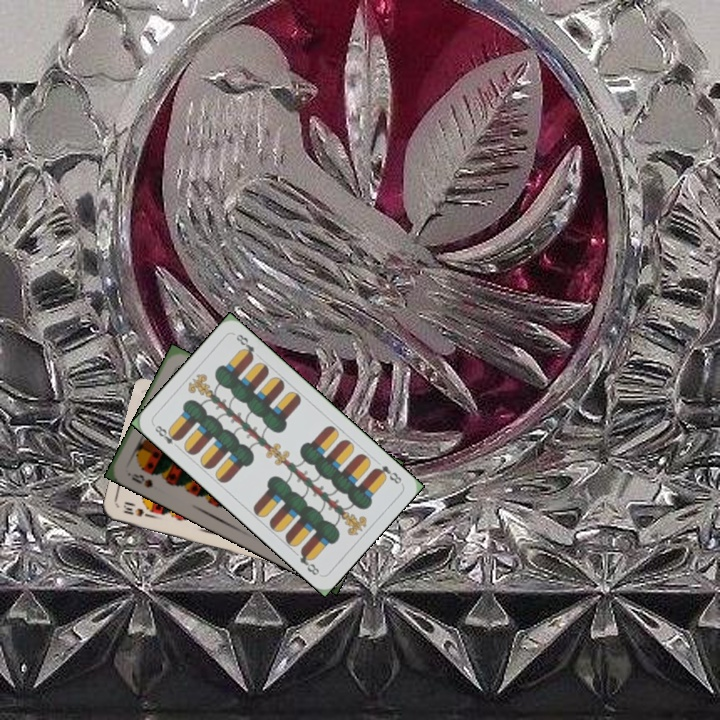E8: (151, 421, 182, 452), (370, 461, 404, 487)
S10: (119, 500, 155, 520)
S8: (123, 468, 156, 490)
